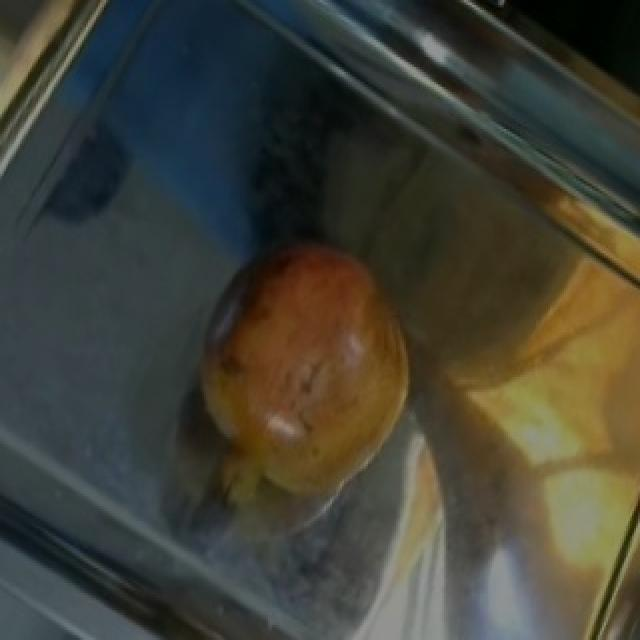fruit: (170, 208, 446, 501)
